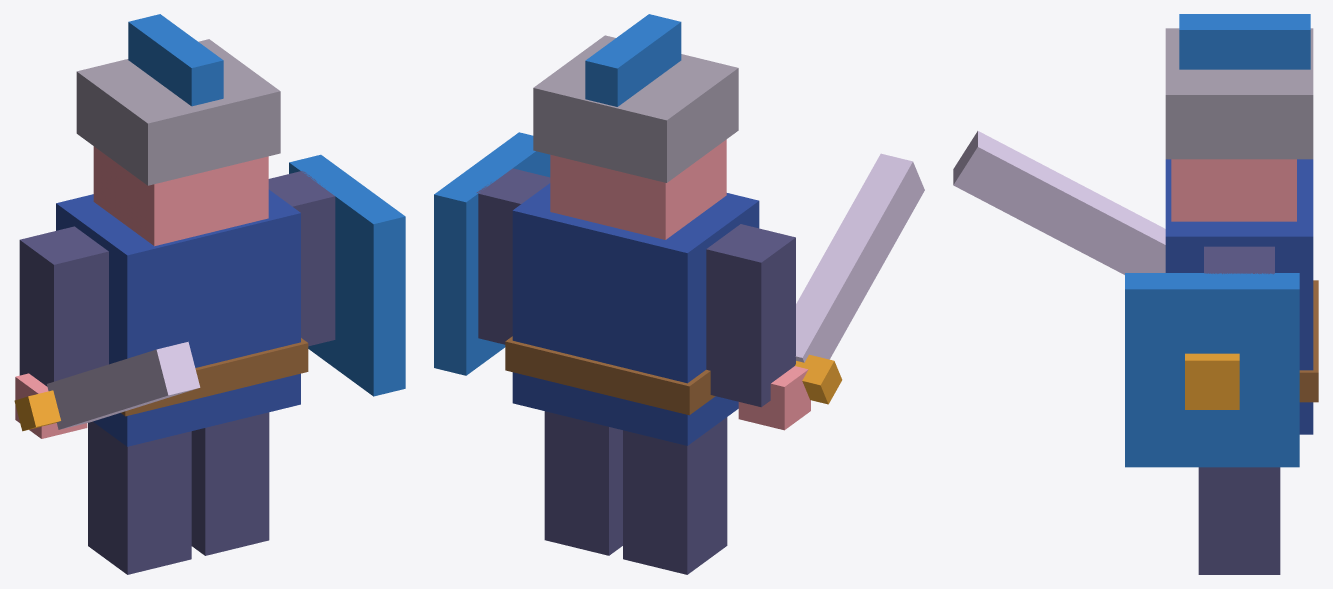
The model's file is swordsman.glb.
The picture shows the model from 3 angles, left to right: view 1: azimuth 30°, elevation 25°; view 2: azimuth 150°, elevation 25°; view 3: azimuth 270°, elevation 25°; orthographic projection. The views are drawn at different scales.
Visible parts, largest first — view 1: Model; view 2: Model; view 3: Model.
Boxes of the visible parts, x1=… form: Model: x1=14, y1=14, x2=405, y2=574; Model: x1=434, y1=14, x2=924, y2=574; Model: x1=953, y1=14, x2=1318, y2=574.
Size of the model in its own units: 0.785 by 1.04 by 0.6692.
